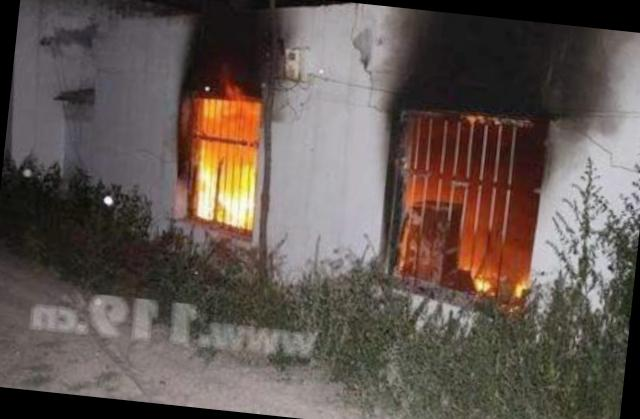fire: (219, 139, 260, 226), (198, 94, 266, 138), (194, 138, 224, 221), (473, 263, 495, 290), (514, 272, 530, 292)
